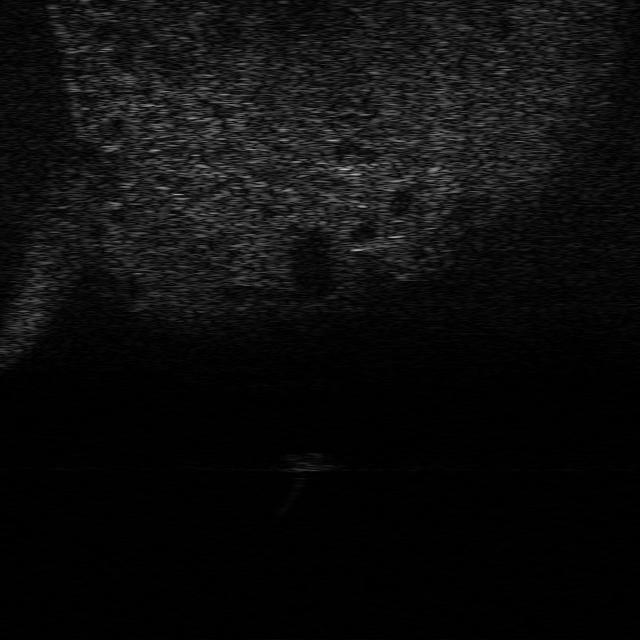cube: (279, 450, 336, 475)
